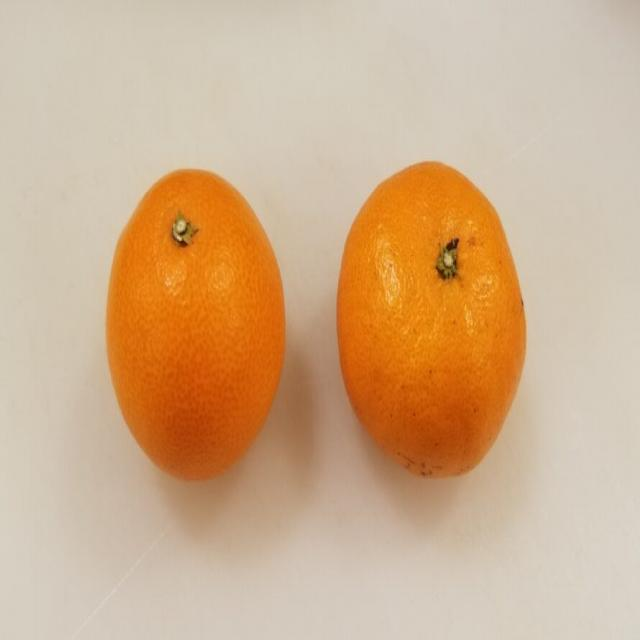Orange: (338, 158, 526, 481), (103, 164, 289, 481)
